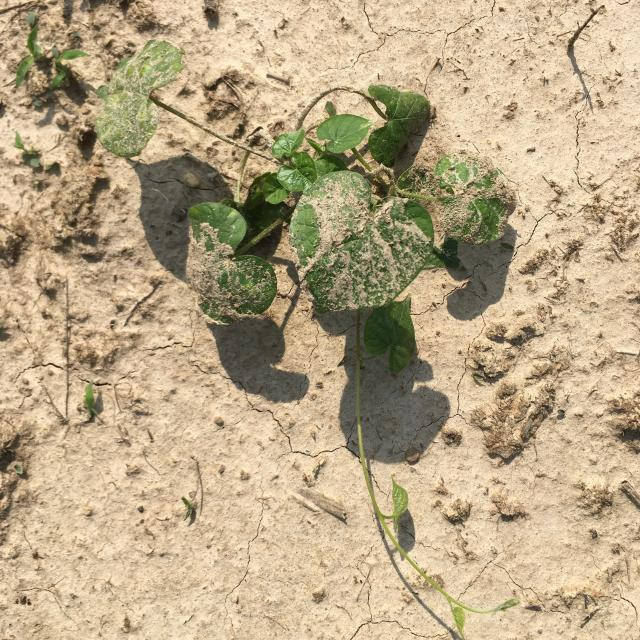MorningGlory: (93, 38, 520, 640)
